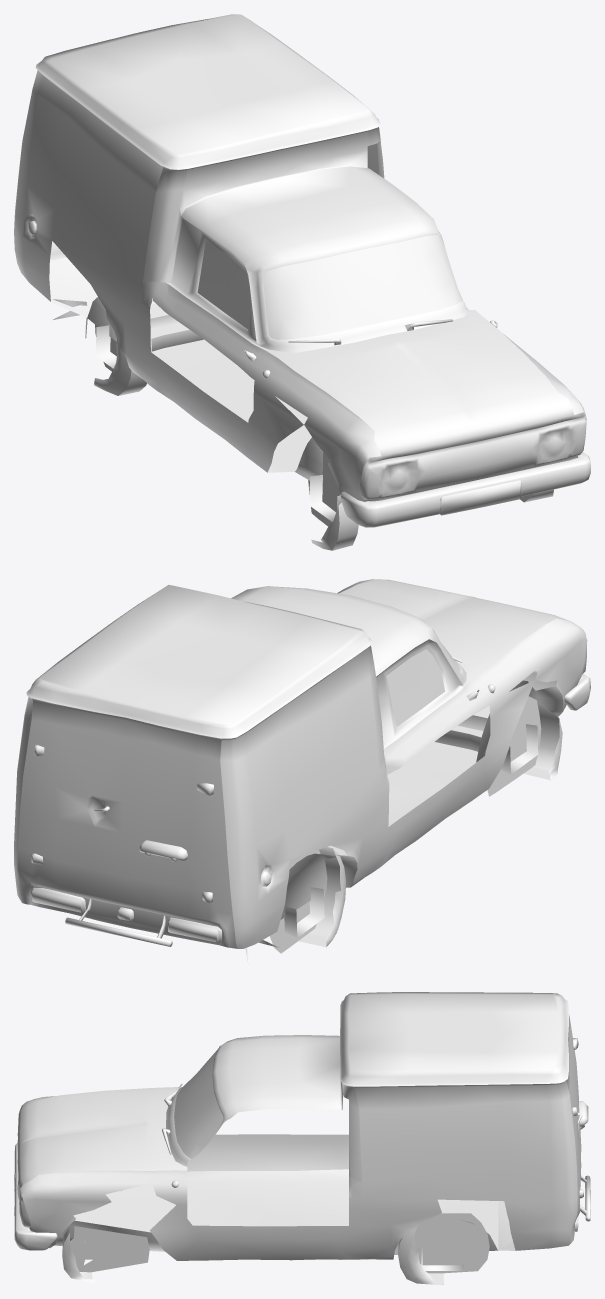
The picture shows the model from 3 angles, top to bottom: view 1: azimuth 30°, elevation 25°; view 2: azimuth 150°, elevation 25°; view 3: azimuth 270°, elevation 25°; orthographic projection. The views are drawn at different scales.
Bounding box in the file's own units: 1.56 × 1.66 × 4.09.
Materials: 1 (1 with a texture image).
